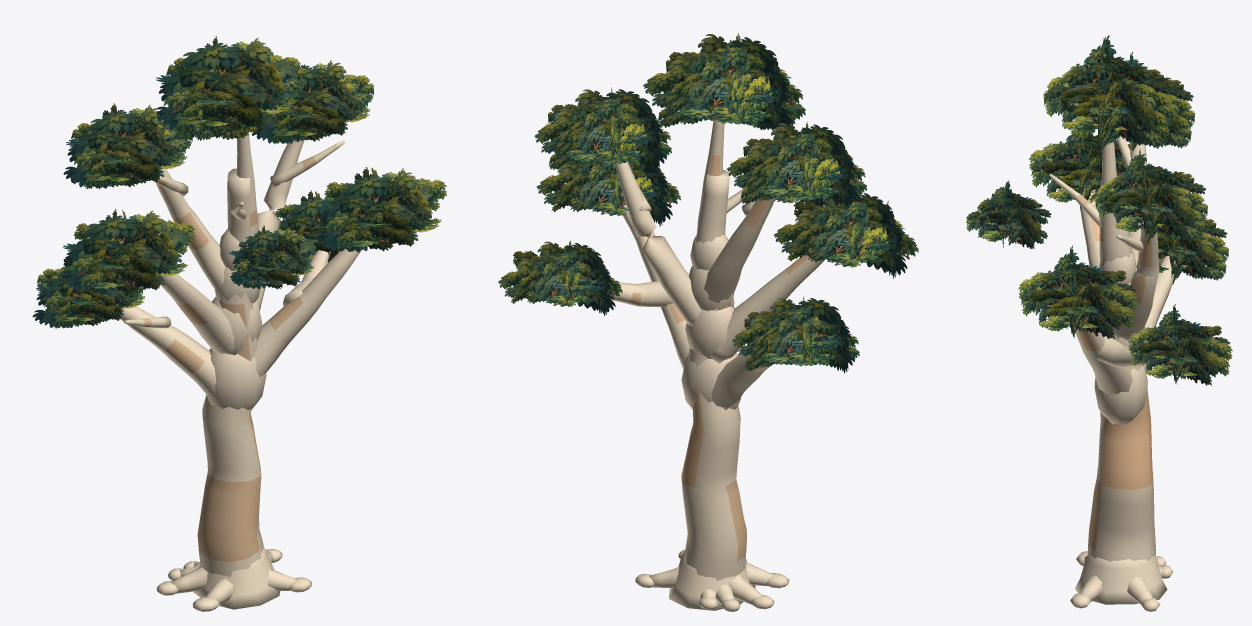
The model's file is TREE_EUCALYPTUS_001_v008_LOD_GAMEPLAY.glb.
3 views of the same model, side by side, from view 1: azimuth 30°, elevation 25°; view 2: azimuth 150°, elevation 25°; view 3: azimuth 270°, elevation 25° (orthographic). The views are drawn at different scales.
Parts seen in each view (by area): view 1: TREE_EUCALYPTUS_001_GAMEPLAY_AUTHORED_FOLIAGE_ISLANDS, TREE_EUCALYPTUS_001_GAMEPLAY_MAIN_TRUNK, TREE_EUCALYPTUS_001_GAMEPLAY_MID_RIGHT_SWEEP, TREE_EUCALYPTUS_001_GAMEPLAY_LOWER_LEFT_SWEEP, TREE_EUCALYPTUS_001_GAMEPLAY_MID_LEFT_ARCH, TREE_EUCALYPTUS_001_GAMEPLAY_SCULPTED_FORK_SWELL_0, TREE_EUCALYPTUS_001_GAMEPLAY_UPPER_LEFT_FORK, TREE_EUCALYPTUS_001_GAMEPLAY_SCULPTED_ROOT_COLLAR, TREE_EUCALYPTUS_001_GAMEPLAY_UPPER_RIGHT_ARCH, TREE_EUCALYPTUS_001_GAMEPLAY_CENTRAL_CROWN_FORK, TREE_EUCALYPTUS_001_GAMEPLAY_SCULPTED_FORK_SWELL_1, TREE_EUCALYPTUS_001_GAMEPLAY_RIGHT_TOP_SUPPORT (+3 smaller); view 2: TREE_EUCALYPTUS_001_GAMEPLAY_AUTHORED_FOLIAGE_ISLANDS, TREE_EUCALYPTUS_001_GAMEPLAY_MAIN_TRUNK, TREE_EUCALYPTUS_001_GAMEPLAY_UPPER_RIGHT_ARCH, TREE_EUCALYPTUS_001_GAMEPLAY_UPPER_LEFT_FORK, TREE_EUCALYPTUS_001_GAMEPLAY_MID_LEFT_ARCH, TREE_EUCALYPTUS_001_GAMEPLAY_SCULPTED_ROOT_COLLAR, TREE_EUCALYPTUS_001_GAMEPLAY_SCULPTED_FORK_SWELL_1, TREE_EUCALYPTUS_001_GAMEPLAY_LOWER_LEFT_SWEEP, TREE_EUCALYPTUS_001_GAMEPLAY_SCULPTED_FORK_SWELL_0, TREE_EUCALYPTUS_001_GAMEPLAY_MID_RIGHT_SWEEP, TREE_EUCALYPTUS_001_GAMEPLAY_LOWER_RIGHT_REACH, TREE_EUCALYPTUS_001_GAMEPLAY_CENTRAL_CROWN_FORK (+2 smaller); view 3: TREE_EUCALYPTUS_001_GAMEPLAY_AUTHORED_FOLIAGE_ISLANDS, TREE_EUCALYPTUS_001_GAMEPLAY_MAIN_TRUNK, TREE_EUCALYPTUS_001_GAMEPLAY_SCULPTED_ROOT_COLLAR, TREE_EUCALYPTUS_001_GAMEPLAY_UPPER_RIGHT_ARCH, TREE_EUCALYPTUS_001_GAMEPLAY_SCULPTED_FORK_SWELL_0, TREE_EUCALYPTUS_001_GAMEPLAY_MID_RIGHT_SWEEP, TREE_EUCALYPTUS_001_GAMEPLAY_CENTRAL_CROWN_FORK, TREE_EUCALYPTUS_001_GAMEPLAY_LOWER_LEFT_SWEEP, TREE_EUCALYPTUS_001_GAMEPLAY_MID_LEFT_ARCH, TREE_EUCALYPTUS_001_GAMEPLAY_LOWER_RIGHT_REACH, TREE_EUCALYPTUS_001_GAMEPLAY_SCULPTED_FORK_SWELL_3, TREE_EUCALYPTUS_001_GAMEPLAY_CENTRE_BACK_SUPPORT (+2 smaller).
Part boxes in pixels (x1,y1,x2,y2): TREE_EUCALYPTUS_001_GAMEPLAY_AUTHORED_FOLIAGE_ISLANDS: [32, 36, 446, 328]; TREE_EUCALYPTUS_001_GAMEPLAY_MAIN_TRUNK: [197, 168, 263, 576]; TREE_EUCALYPTUS_001_GAMEPLAY_MID_RIGHT_SWEEP: [254, 249, 361, 377]; TREE_EUCALYPTUS_001_GAMEPLAY_LOWER_LEFT_SWEEP: [117, 304, 216, 398]; TREE_EUCALYPTUS_001_GAMEPLAY_MID_LEFT_ARCH: [160, 274, 236, 355]; TREE_EUCALYPTUS_001_GAMEPLAY_SCULPTED_FORK_SWELL_0: [207, 348, 266, 410]; TREE_EUCALYPTUS_001_GAMEPLAY_UPPER_LEFT_FORK: [155, 168, 225, 295]; TREE_EUCALYPTUS_001_GAMEPLAY_SCULPTED_ROOT_COLLAR: [193, 547, 280, 609]; TREE_EUCALYPTUS_001_GAMEPLAY_UPPER_RIGHT_ARCH: [256, 139, 304, 310]; TREE_EUCALYPTUS_001_GAMEPLAY_CENTRAL_CROWN_FORK: [236, 132, 258, 247]; TREE_EUCALYPTUS_001_GAMEPLAY_SCULPTED_FORK_SWELL_1: [212, 296, 262, 352]; TREE_EUCALYPTUS_001_GAMEPLAY_RIGHT_TOP_SUPPORT: [270, 140, 344, 187]; TREE_EUCALYPTUS_001_GAMEPLAY_AUTHORED_FOLIAGE_ISLANDS: [498, 33, 918, 373]; TREE_EUCALYPTUS_001_GAMEPLAY_MAIN_TRUNK: [681, 170, 746, 580]; TREE_EUCALYPTUS_001_GAMEPLAY_UPPER_RIGHT_ARCH: [611, 146, 701, 326]; TREE_EUCALYPTUS_001_GAMEPLAY_UPPER_LEFT_FORK: [704, 197, 775, 303]; TREE_EUCALYPTUS_001_GAMEPLAY_MID_LEFT_ARCH: [709, 253, 823, 363]; TREE_EUCALYPTUS_001_GAMEPLAY_SCULPTED_ROOT_COLLAR: [669, 549, 755, 610]; TREE_EUCALYPTUS_001_GAMEPLAY_SCULPTED_FORK_SWELL_1: [685, 306, 734, 358]; TREE_EUCALYPTUS_001_GAMEPLAY_LOWER_LEFT_SWEEP: [711, 354, 773, 408]; TREE_EUCALYPTUS_001_GAMEPLAY_SCULPTED_FORK_SWELL_0: [681, 353, 740, 410]; TREE_EUCALYPTUS_001_GAMEPLAY_MID_RIGHT_SWEEP: [615, 200, 688, 369]; TREE_EUCALYPTUS_001_GAMEPLAY_LOWER_RIGHT_REACH: [610, 281, 673, 306]; TREE_EUCALYPTUS_001_GAMEPLAY_CENTRAL_CROWN_FORK: [697, 119, 724, 231]; TREE_EUCALYPTUS_001_GAMEPLAY_AUTHORED_FOLIAGE_ISLANDS: [966, 35, 1232, 385]; TREE_EUCALYPTUS_001_GAMEPLAY_MAIN_TRUNK: [1087, 194, 1155, 561]; TREE_EUCALYPTUS_001_GAMEPLAY_SCULPTED_ROOT_COLLAR: [1075, 553, 1167, 604]; TREE_EUCALYPTUS_001_GAMEPLAY_UPPER_RIGHT_ARCH: [1112, 227, 1159, 340]; TREE_EUCALYPTUS_001_GAMEPLAY_SCULPTED_FORK_SWELL_0: [1094, 364, 1147, 425]; TREE_EUCALYPTUS_001_GAMEPLAY_MID_RIGHT_SWEEP: [1074, 327, 1132, 394]; TREE_EUCALYPTUS_001_GAMEPLAY_CENTRAL_CROWN_FORK: [1099, 131, 1123, 264]; TREE_EUCALYPTUS_001_GAMEPLAY_LOWER_LEFT_SWEEP: [1144, 255, 1178, 370]; TREE_EUCALYPTUS_001_GAMEPLAY_MID_LEFT_ARCH: [1080, 187, 1099, 268]; TREE_EUCALYPTUS_001_GAMEPLAY_LOWER_RIGHT_REACH: [1097, 333, 1156, 367]; TREE_EUCALYPTUS_001_GAMEPLAY_SCULPTED_FORK_SWELL_3: [1099, 250, 1136, 284]; TREE_EUCALYPTUS_001_GAMEPLAY_CENTRE_BACK_SUPPORT: [1049, 173, 1099, 226].
Bounding box in the file's own units: 10.07 × 13.98 × 6.57.
Materials: 5 (1 with a texture image).
